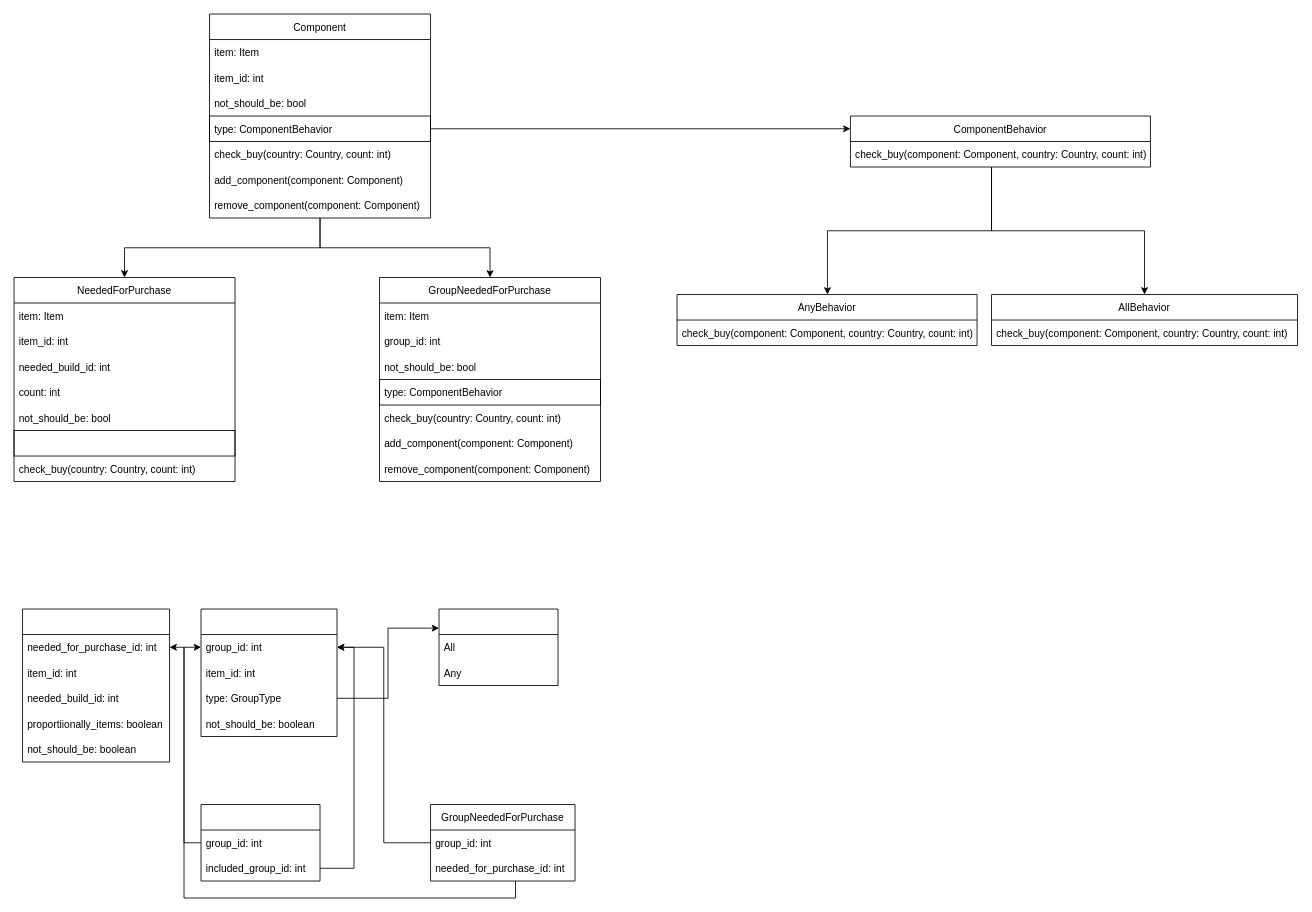
The diagram is 1312 pixels wide and 912 high, and some of its shapes have lost their labels. The shapes that lost their labels are listed below. From the top down, each one's box as (x1, y1, x2, y2) in pixels, then its label:
(13, 430, 235, 456): proportionally_items: bool
(438, 608, 558, 686): Enum GroupType
(22, 608, 170, 762): NeededForPurchases
(200, 608, 337, 737): GroupsNeededForPurchase
(200, 804, 320, 881): GroupGroups
